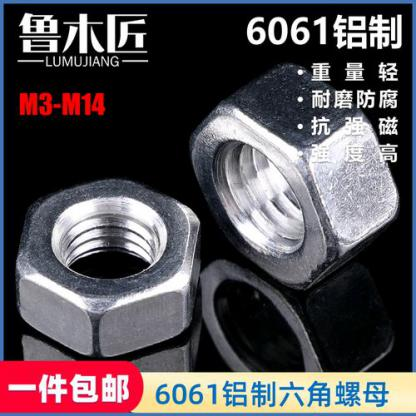FOD: (183, 58, 406, 296), (8, 172, 203, 360)
